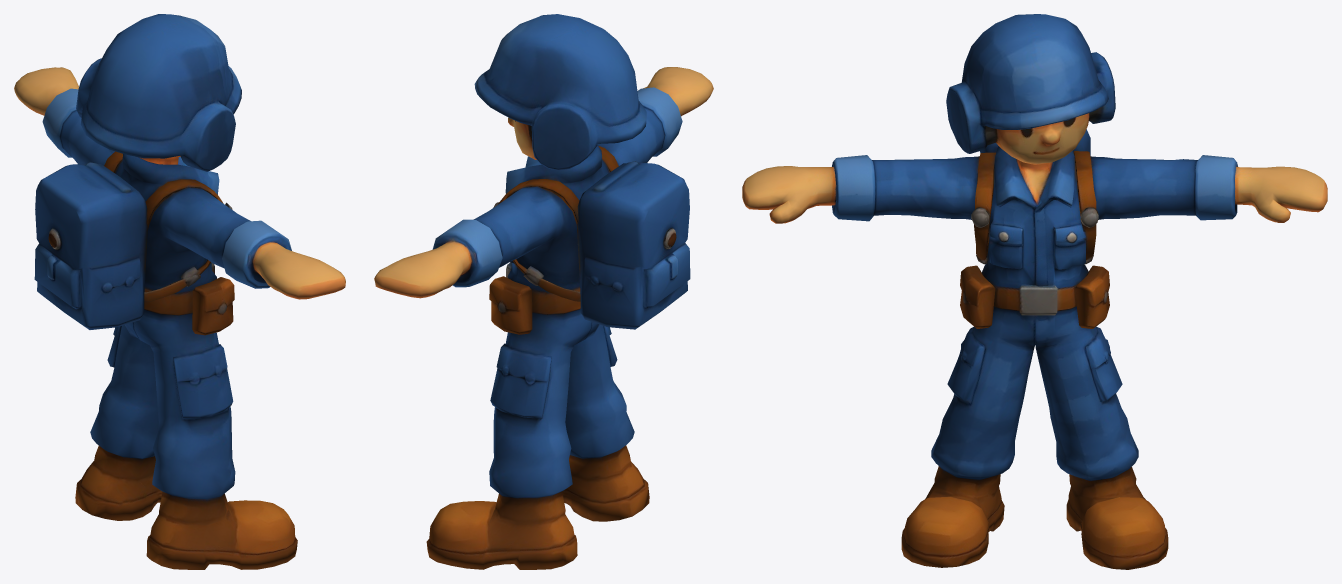
3 views of the same model, side by side, from view 1: azimuth 30°, elevation 25°; view 2: azimuth 150°, elevation 25°; view 3: azimuth 270°, elevation 25° (orthographic).
Visible parts, largest first — view 1: tripo_node_a551878c-12ca-4f0f-a0c3-318c4777410a; view 2: tripo_node_a551878c-12ca-4f0f-a0c3-318c4777410a; view 3: tripo_node_a551878c-12ca-4f0f-a0c3-318c4777410a.
Part boxes in pixels (box(x1,y1,x2,y2)): tripo_node_a551878c-12ca-4f0f-a0c3-318c4777410a: box(14, 14, 345, 569); tripo_node_a551878c-12ca-4f0f-a0c3-318c4777410a: box(374, 14, 713, 569); tripo_node_a551878c-12ca-4f0f-a0c3-318c4777410a: box(742, 14, 1327, 569).
Size of the model in its own units: 0.3887 by 0.959 by 0.998.
1 material, 1 textured.
